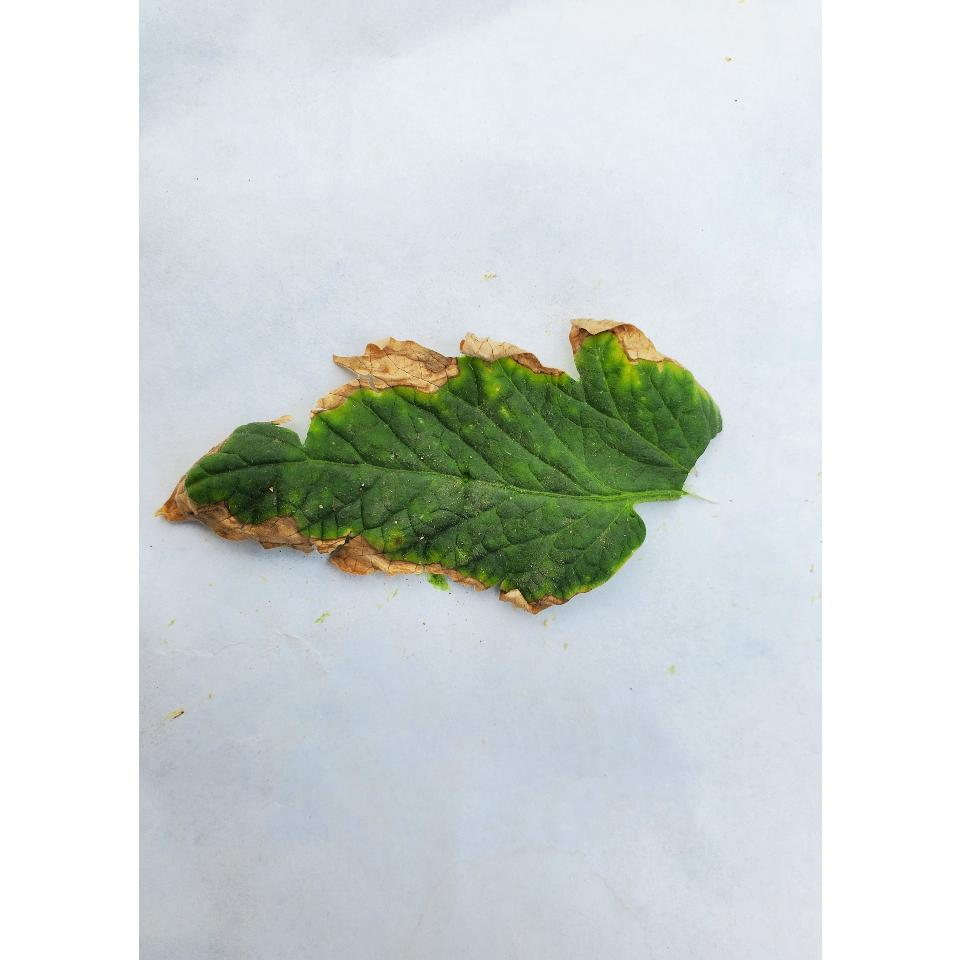tomato_bacterial_blight: (148, 352, 724, 602)
